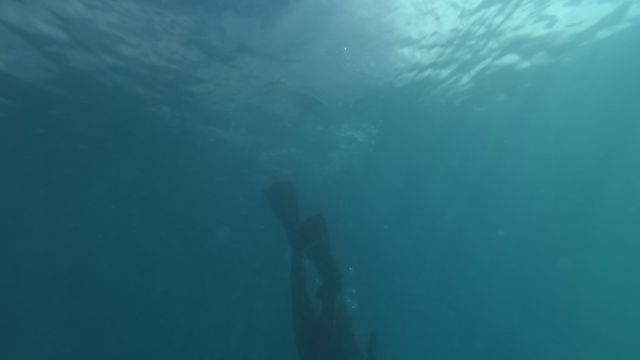Diver: (256, 171, 383, 358)
